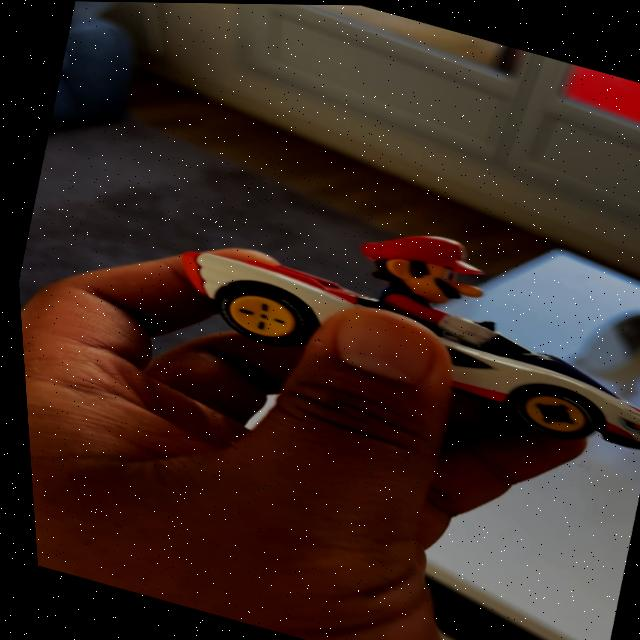mario: (174, 169, 640, 478)
